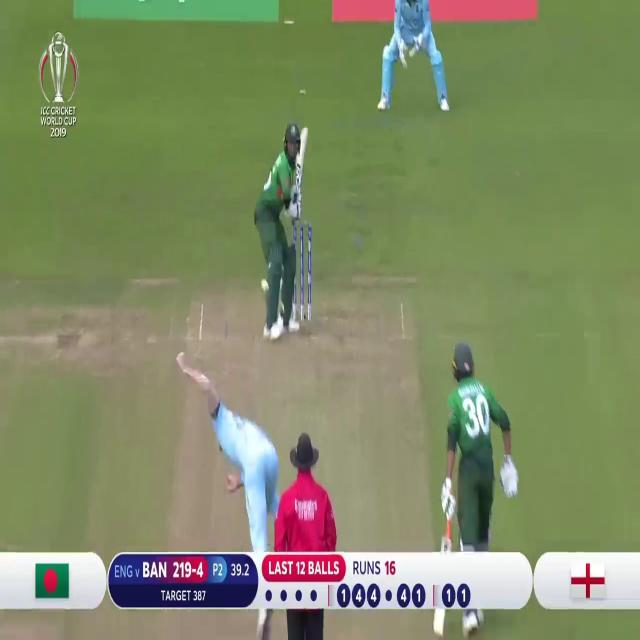ball: (260, 278, 270, 294)
